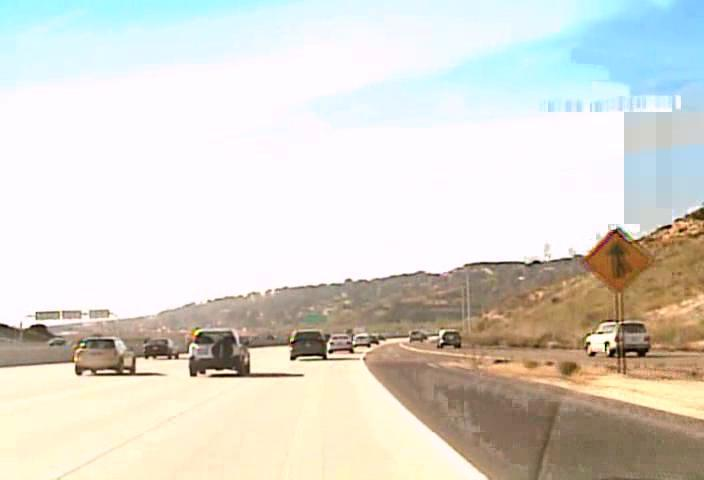merge: (583, 227, 653, 291)
